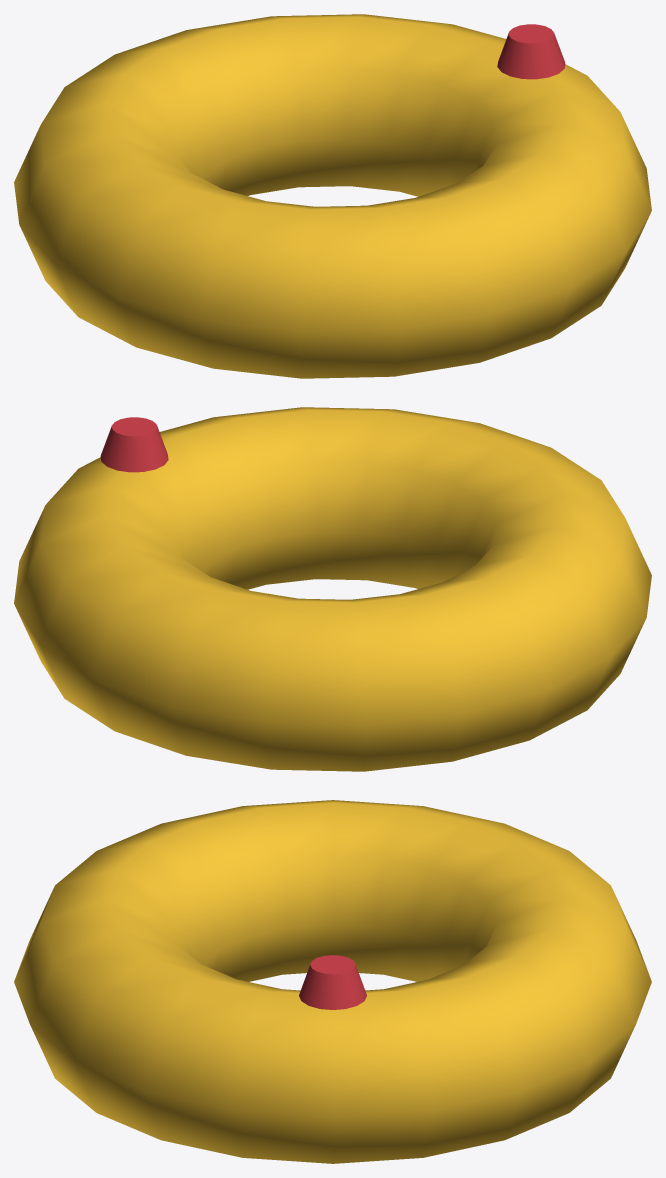
File: float_ring.glb
3 views of the same model, one above another, from view 1: azimuth 30°, elevation 25°; view 2: azimuth 150°, elevation 25°; view 3: azimuth 270°, elevation 25° (orthographic).
Parts seen in each view (by area): view 1: root; view 2: root; view 3: root.
Boxes of the visible parts, x1,y1,x2,y2 form: root: (14, 14, 651, 378); root: (14, 407, 651, 771); root: (14, 800, 651, 1163).
Bounding box in the file's own units: 0.56 × 0.19 × 0.56.
